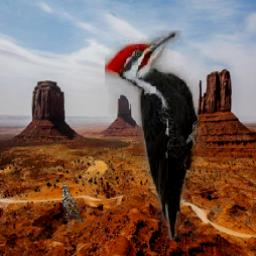Sparrow: (62, 184, 83, 221)
Woodpecker: (104, 30, 198, 240)
